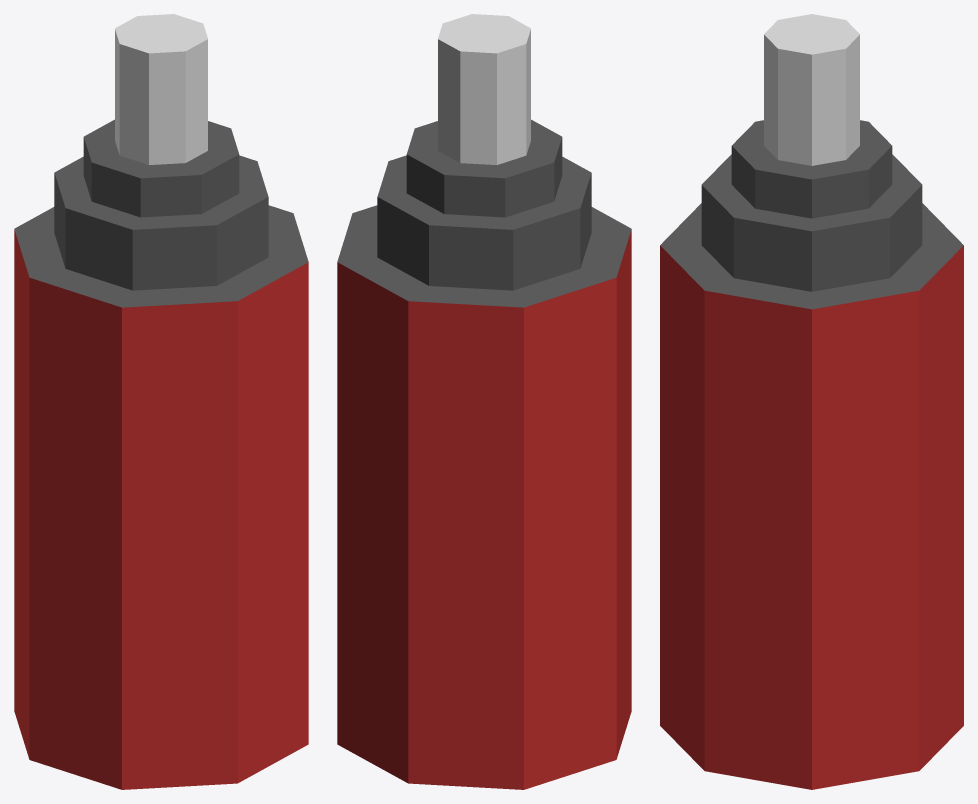
The model's file is spray.glb.
The picture shows the model from 3 angles, left to right: view 1: azimuth 30°, elevation 25°; view 2: azimuth 150°, elevation 25°; view 3: azimuth 270°, elevation 25°; orthographic projection.
Visible parts, largest first — view 1: Spray; view 2: Spray; view 3: Spray.
Part boxes in pixels (x1=…): Spray: x1=14, y1=14, x2=308, y2=789; Spray: x1=337, y1=14, x2=631, y2=789; Spray: x1=660, y1=14, x2=963, y2=789.
Bounding box in the file's own units: 0.16 × 0.4019 × 0.16.
